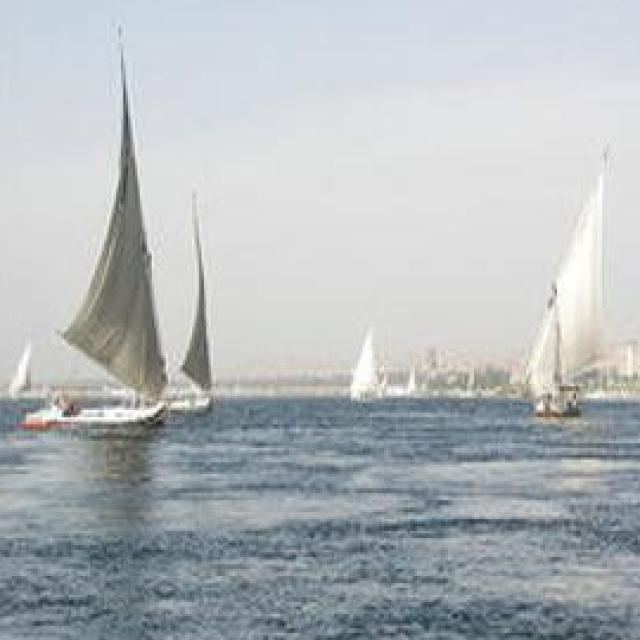sailboat: (34, 47, 172, 430), (488, 175, 640, 415), (165, 182, 225, 430)
